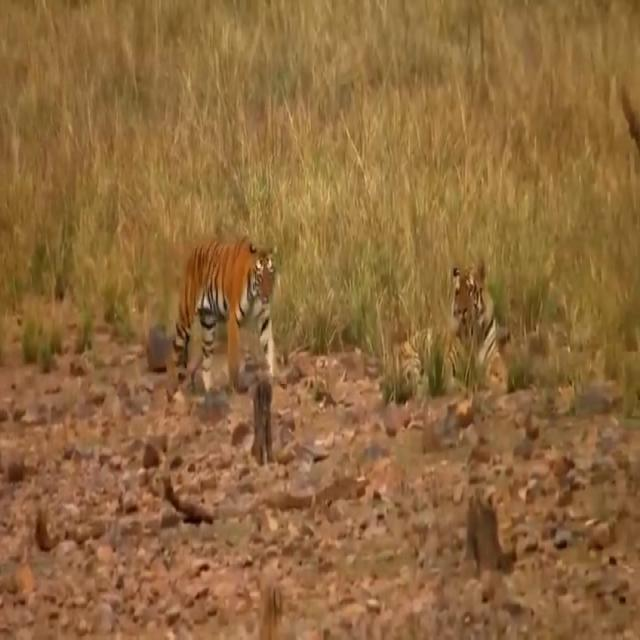tiger: (384, 258, 508, 394), (171, 232, 277, 389)
